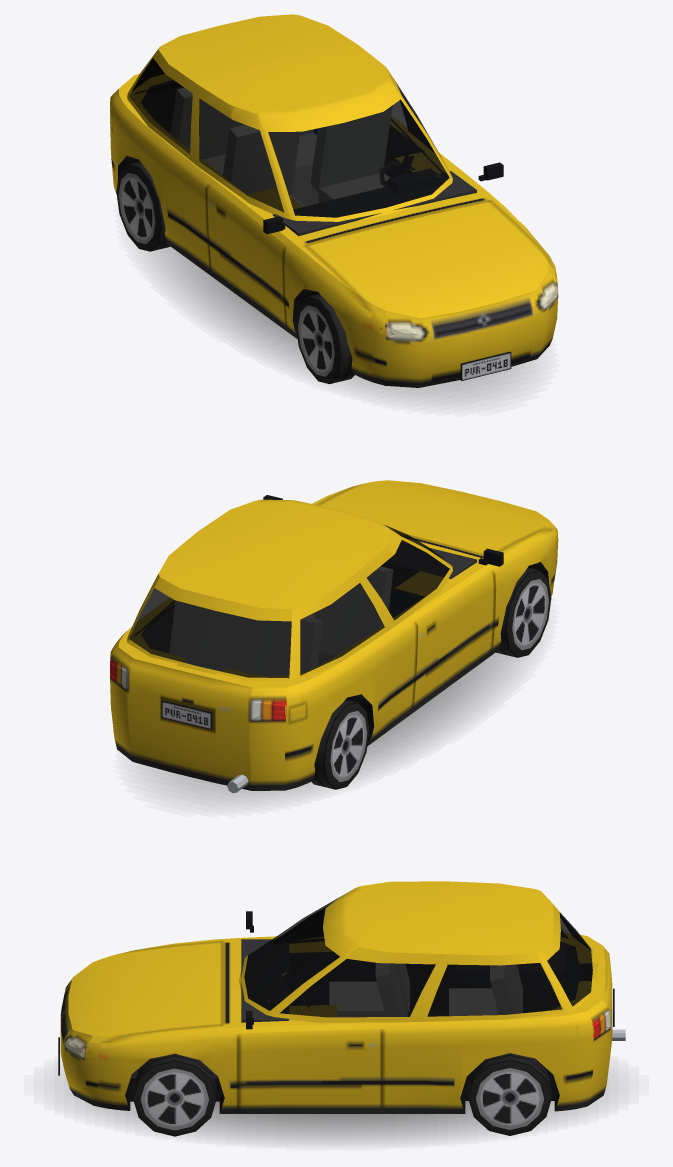
File: polvora.glb
The picture shows the model from 3 angles, top to bottom: view 1: azimuth 30°, elevation 25°; view 2: azimuth 150°, elevation 25°; view 3: azimuth 270°, elevation 25°; orthographic projection. The views are drawn at different scales.
Parts seen in each view (by area): view 1: Carroceria, Interior, Capo_malha, Porta_D_malha, Sombra, Roda_DD, Roda_TD, Porta_E_malha, Farol; view 2: Carroceria, Tampa_malha, Interior, Capo_malha, Porta_D_malha, Sombra, Roda_TD, Roda_DD, Lanterna; view 3: Carroceria, Interior, Porta_E_malha, Capo_malha, Sombra, Roda_DE, Roda_TE, Tampa_malha, Porta_D_malha.
Part boxes in pixels (x1=…): Carroceria: x1=110, y1=14, x2=558, y2=387; Interior: x1=136, y1=80, x2=476, y2=236; Capo_malha: x1=305, y1=200, x2=553, y2=318; Porta_D_malha: x1=206, y1=107, x2=290, y2=323; Sombra: x1=148, y1=247, x2=530, y2=401; Roda_DD: x1=295, y1=294, x2=354, y2=384; Roda_TD: x1=116, y1=161, x2=170, y2=251; Porta_E_malha: x1=387, y1=71, x2=503, y2=181; Farol: x1=379, y1=285, x2=557, y2=340; Carroceria: x1=110, y1=483, x2=558, y2=793; Tampa_malha: x1=128, y1=577, x2=291, y2=770; Interior: x1=135, y1=541, x2=476, y2=675; Capo_malha: x1=317, y1=480, x2=553, y2=554; Porta_D_malha: x1=387, y1=533, x2=503, y2=704; Sombra: x1=142, y1=653, x2=524, y2=802; Roda_TD: x1=311, y1=699, x2=369, y2=789; Roda_DD: x1=496, y1=567, x2=551, y2=657; Lanterna: x1=110, y1=663, x2=302, y2=719; Carroceria: x1=58, y1=881, x2=625, y2=1113; Interior: x1=130, y1=916, x2=592, y2=1078; Porta_E_malha: x1=238, y1=947, x2=382, y2=1106; Capo_malha: x1=74, y1=941, x2=222, y2=1042; Sombra: x1=64, y1=1075, x2=608, y2=1142; Roda_DE: x1=133, y1=1053, x2=216, y2=1136; Roda_TE: x1=468, y1=1053, x2=551, y2=1135; Tampa_malha: x1=541, y1=904, x2=614, y2=1053; Porta_D_malha: x1=246, y1=908, x2=324, y2=942.
Size of the model in its own units: 2.4 by 1.45 by 4.85.
12 materials, 6 textured.
